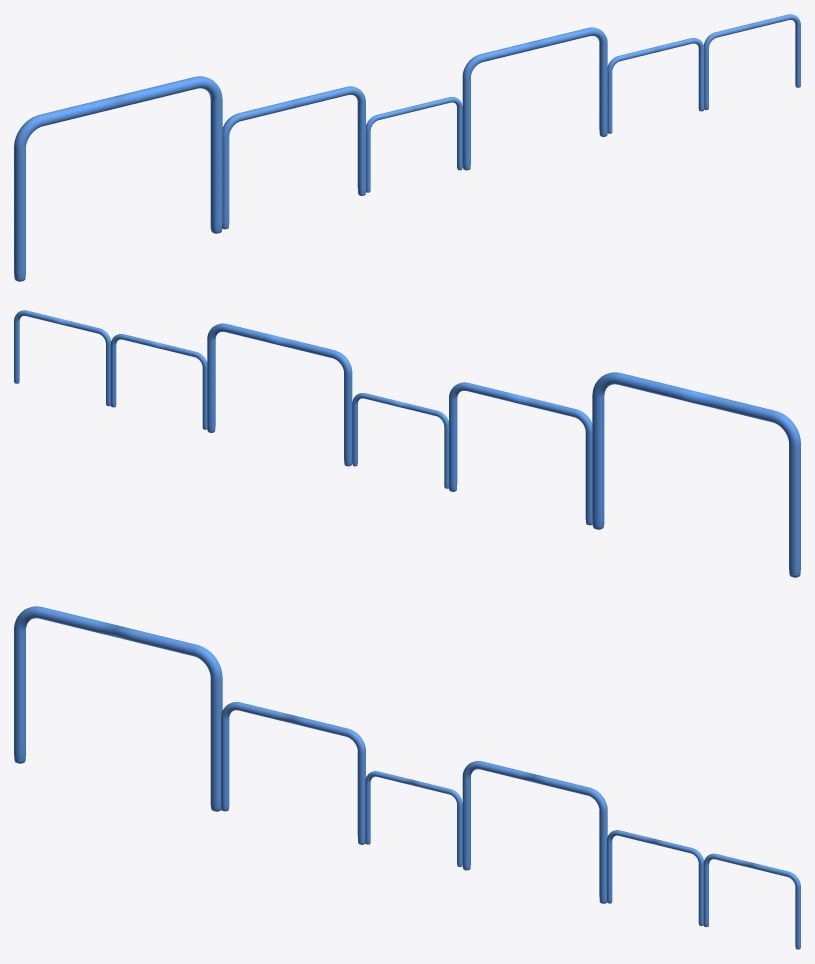
Rendered from blue-fence.glb.
3 renders of one model, top to bottom at view 1: azimuth 30°, elevation 25°; view 2: azimuth 150°, elevation 25°; view 3: azimuth 330°, elevation 25°, orthographic.
Visible parts, largest first — view 1: Fence Blue; view 2: Fence Blue; view 3: Fence Blue.
Part boxes in pixels (<box>): Fence Blue: <box>14,14,800,281</box>; Fence Blue: <box>14,310,800,577</box>; Fence Blue: <box>14,606,800,949</box>.
Bounding box in the file's own units: 4.37 × 0.8487 × 0.0575.
Materials: 1 (1 with a texture image).
